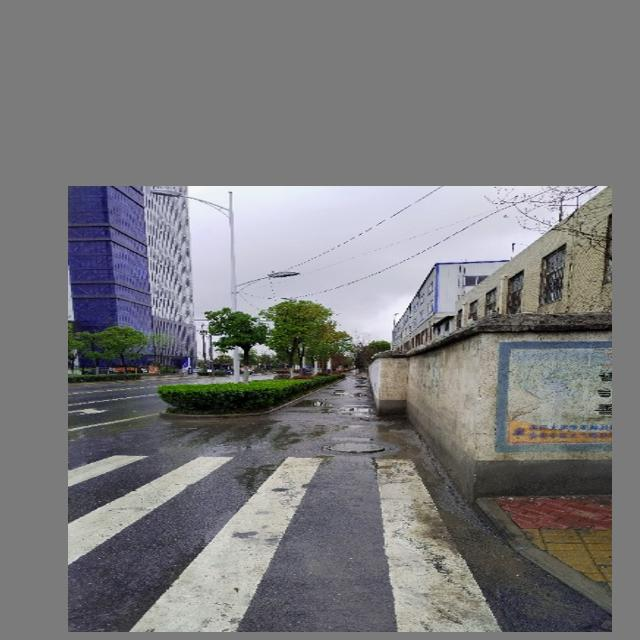good: (294, 420, 412, 473)
